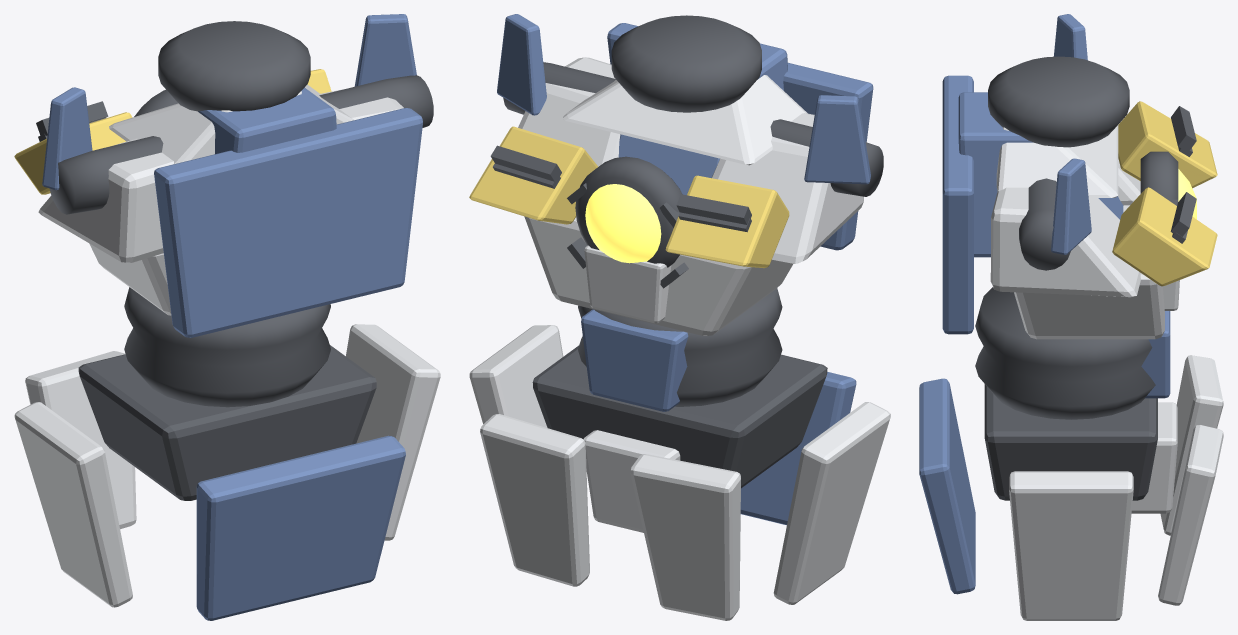
The model's file is torso_fast.glb.
3 views of the same model, side by side, from view 1: azimuth 30°, elevation 25°; view 2: azimuth 150°, elevation 25°; view 3: azimuth 270°, elevation 25° (orthographic). The views are drawn at different scales.
Parts seen in each view (by area): view 1: back, skirt_rear, pelvis, waist.001, skirt_side, collar, skirt_side.001, pectoral, shoulder_bar, skirt_front, chest_core, chest_fairing (+5 smaller); view 2: pelvis, skirt_front, skirt_front.001, skirt_side, collar, chest_fairing, chest_lower, waist.001, abdomen_plate, pectoral, intake, intake.001 (+15 smaller); view 3: skirt_side.001, waist.001, pelvis, collar, pectoral.001, skirt_rear, back, chest_lower, intake.001, skirt_front.001, chest_core, chest_fairing (+12 smaller).
Part boxes in pixels (box(x1,y1,x2,y2)): back: box(154, 108, 422, 337); skirt_rear: box(196, 435, 405, 620); pelvis: box(78, 345, 376, 500); waist.001: box(124, 287, 330, 407); skirt_side: box(14, 402, 132, 607); collar: box(158, 21, 310, 111); skirt_side.001: box(346, 324, 440, 540); pectoral: box(38, 138, 173, 262); shoulder_bar: box(50, 75, 433, 214); skirt_front: box(25, 351, 136, 529); chest_core: box(198, 87, 336, 154); chest_fairing: box(109, 84, 354, 164); pelvis: box(532, 345, 827, 488); skirt_front: box(630, 454, 740, 620); skirt_front.001: box(480, 414, 589, 586); skirt_side: box(773, 402, 890, 604); collar: box(611, 15, 761, 112); chest_fairing: box(563, 75, 807, 165); chest_lower: box(524, 216, 793, 335); waist.001: box(578, 288, 782, 406); abdomen_plate: box(581, 309, 688, 411); pectoral: box(711, 113, 863, 263); intake: box(665, 175, 789, 268); intake.001: box(469, 126, 598, 224); skirt_side.001: box(1009, 471, 1133, 620); waist.001: box(975, 287, 1155, 419); pelvis: box(984, 384, 1157, 500); collar: box(988, 56, 1129, 147); pectoral.001: box(990, 187, 1140, 297); skirt_rear: box(919, 378, 975, 594); back: box(942, 75, 973, 334); chest_lower: box(1014, 205, 1164, 339); intake.001: box(1112, 187, 1217, 286); skirt_front.001: box(1158, 425, 1223, 605); chest_core: box(958, 92, 1123, 257); chest_fairing: box(996, 125, 1118, 197).
Bounding box in the file's own units: 5.46 × 7.16 × 4.12.
